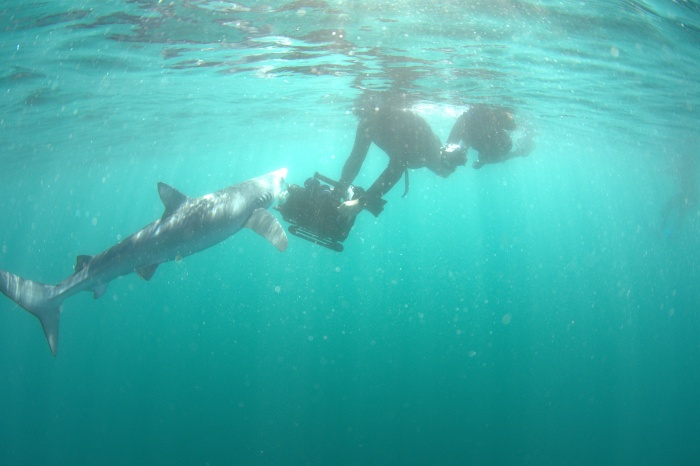Azul: (1, 140, 307, 376)
